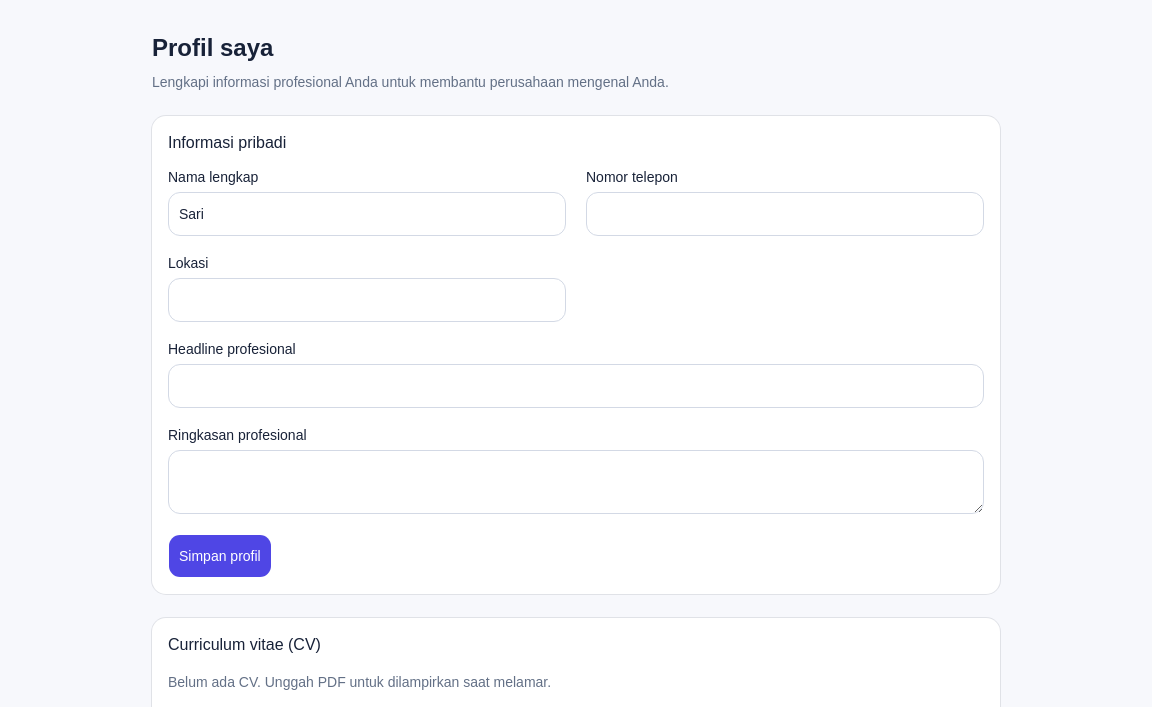
Scenario: prefills and saves the profile
The width and height of the screenshot is (1152, 707).
Replace the text in the field labelled "Nama lengkap" with "Sari Baru": x=367, y=214 [168,192,566,236]
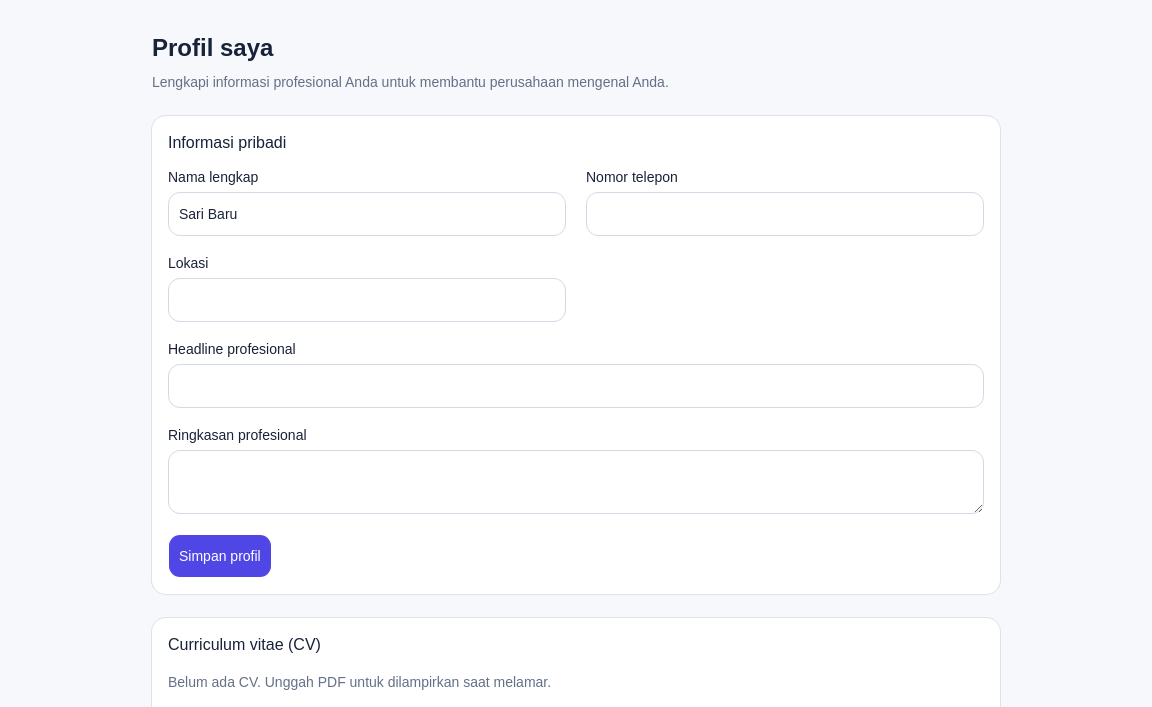
Click the button "Simpan profil": x=220, y=556 [168,534,272,578]
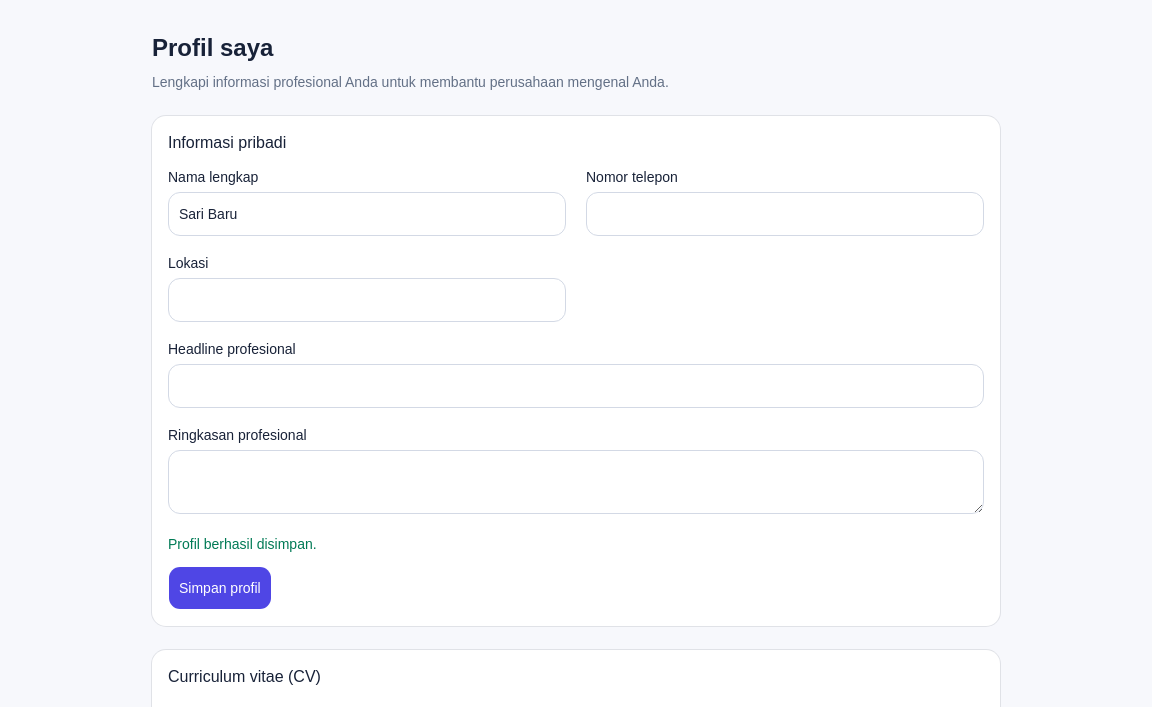
Now the message reads "Profil berhasil disimpan.", box [168,536,317,552]
